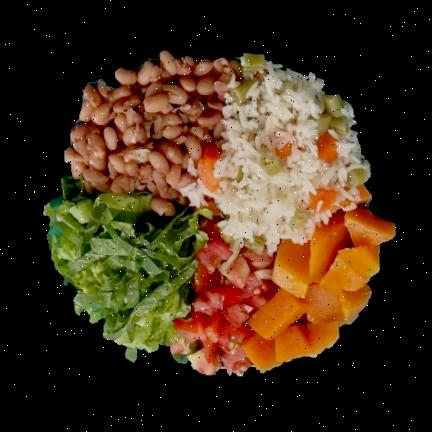beans: (65, 59, 241, 202)
rice: (187, 55, 369, 254)
salad: (44, 178, 207, 362)
tomato: (169, 221, 282, 375)
